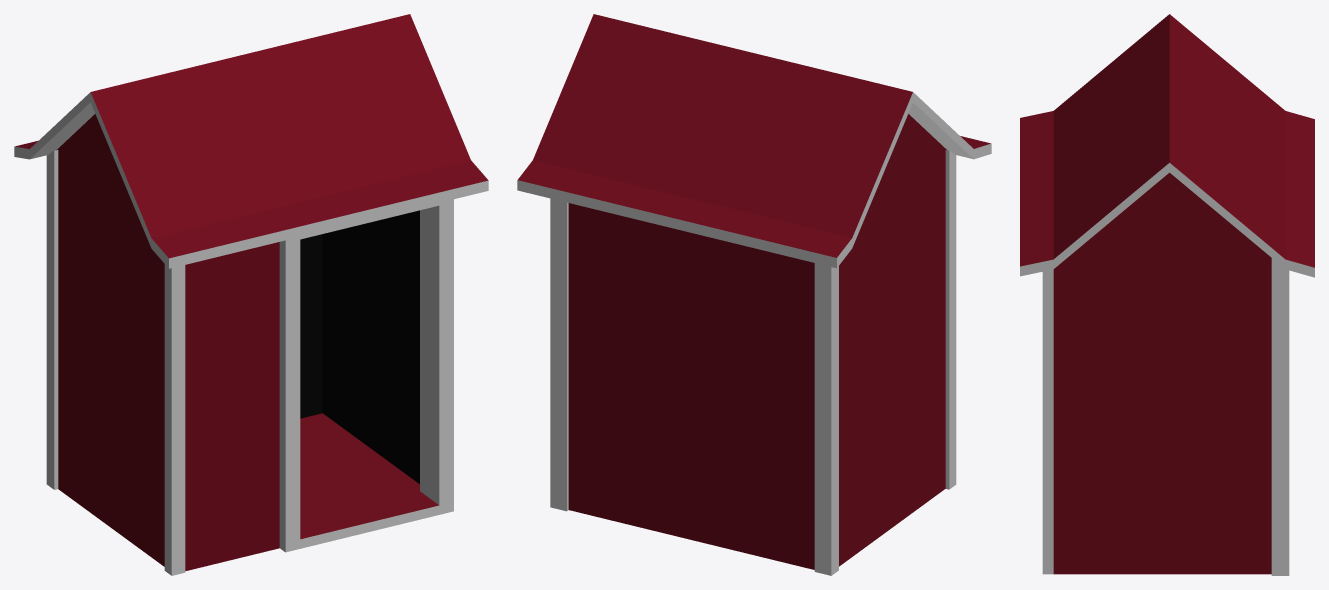
The model's file is ACCES-CABINE.fbx.
The picture shows the model from 3 angles, left to right: view 1: azimuth 30°, elevation 25°; view 2: azimuth 150°, elevation 25°; view 3: azimuth 270°, elevation 25°; orthographic projection. The views are drawn at different scales.
Visible parts, largest first — view 1: Cube; view 2: Cube; view 3: Cube.
Boxes of the visible parts, <box> form: Cube: <box>14,14,488,575</box>; Cube: <box>517,14,991,575</box>; Cube: <box>1020,14,1314,575</box>.
Size of the model in its own units: 303 by 402 by 254.
